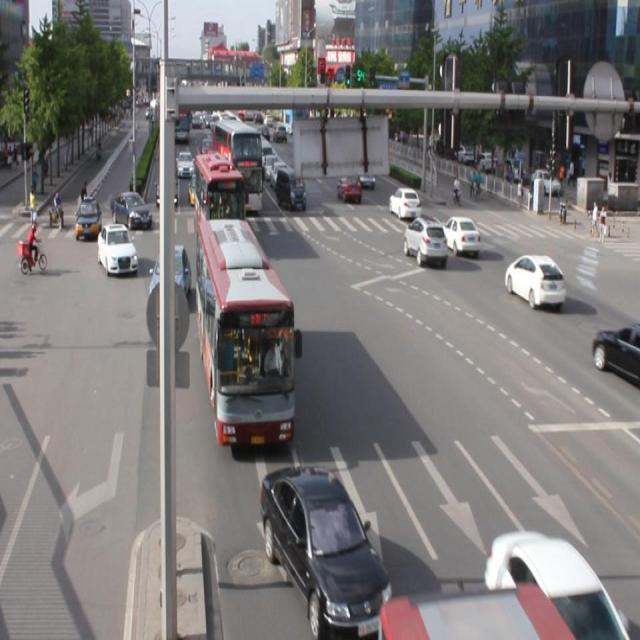car: (261, 463, 393, 640), (484, 528, 630, 640), (503, 251, 565, 307), (148, 243, 191, 312), (98, 222, 138, 277), (403, 216, 446, 266), (441, 214, 480, 253)
van: (197, 221, 294, 443)
